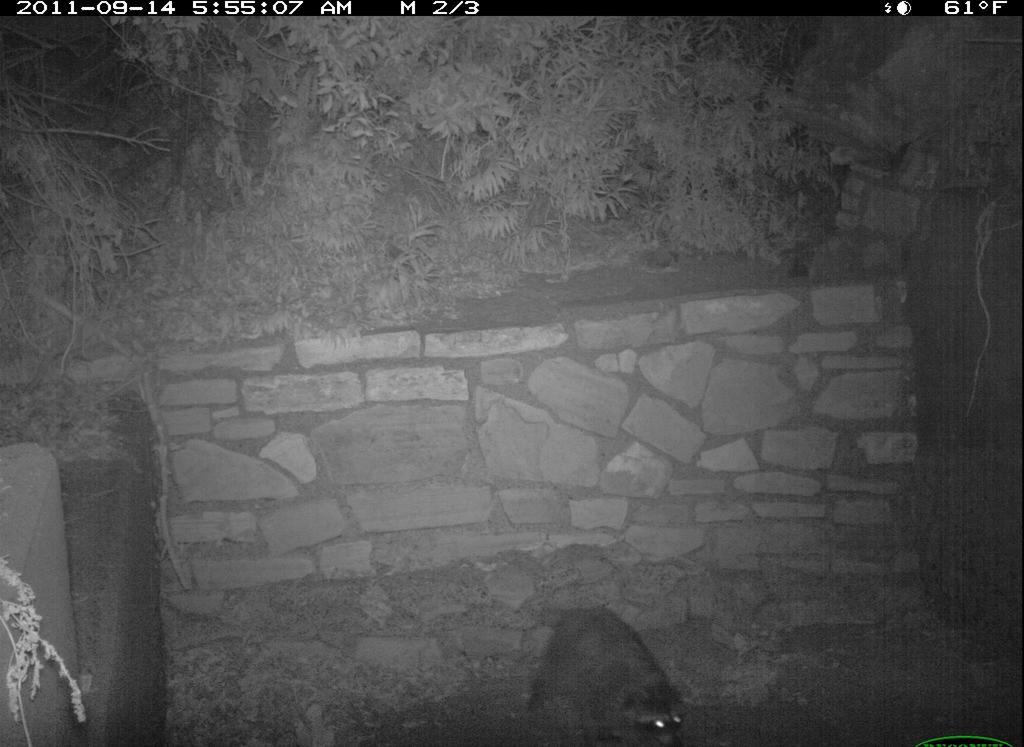raccoon: (514, 575, 730, 747)
